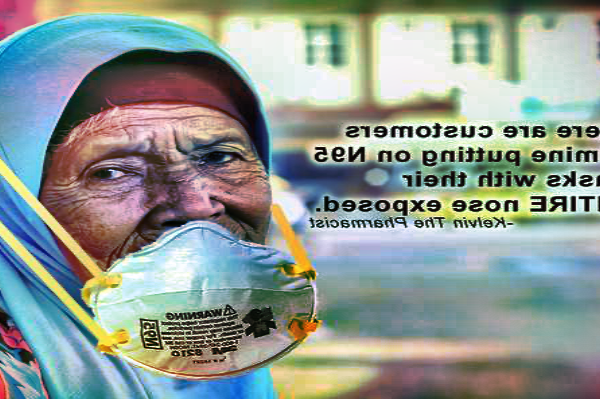mask_weared_incorrect: (49, 128, 274, 307)
